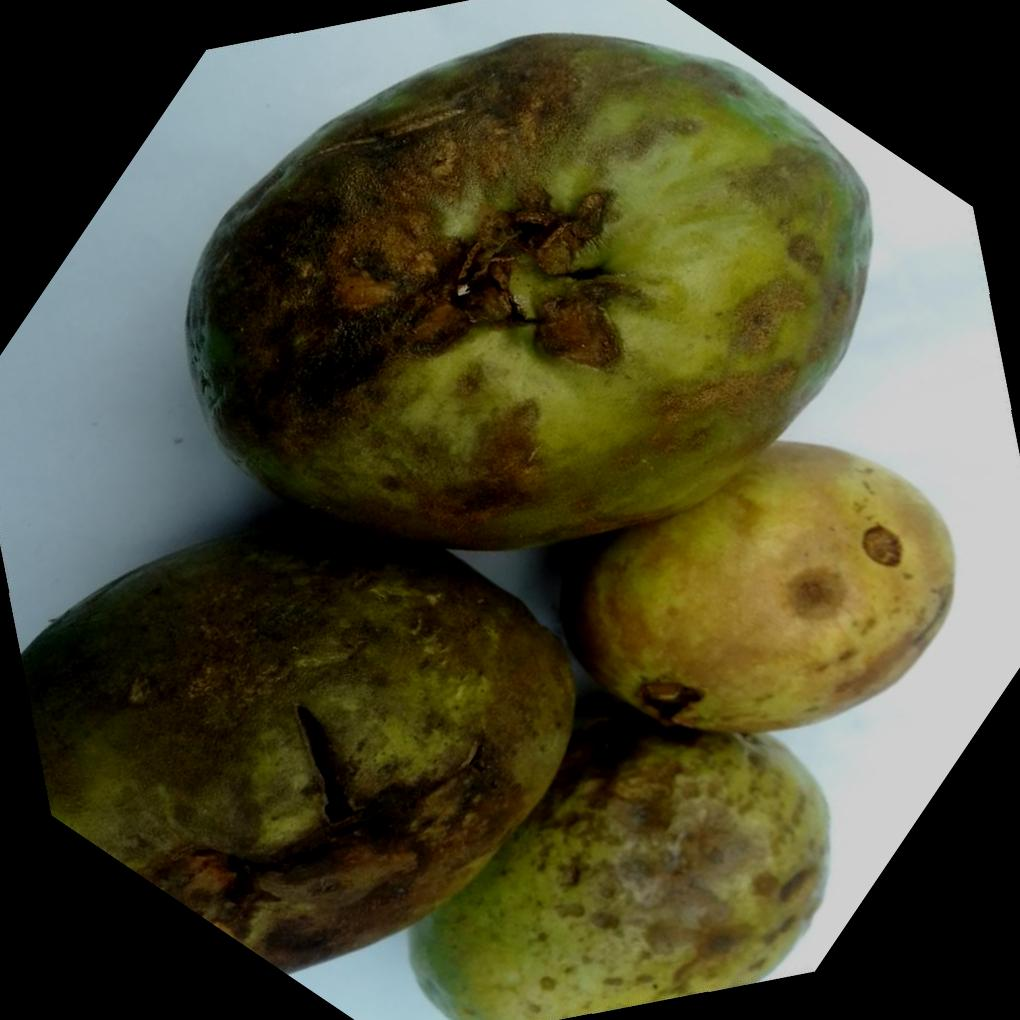FreshOrange: (19, 32, 956, 1020)
